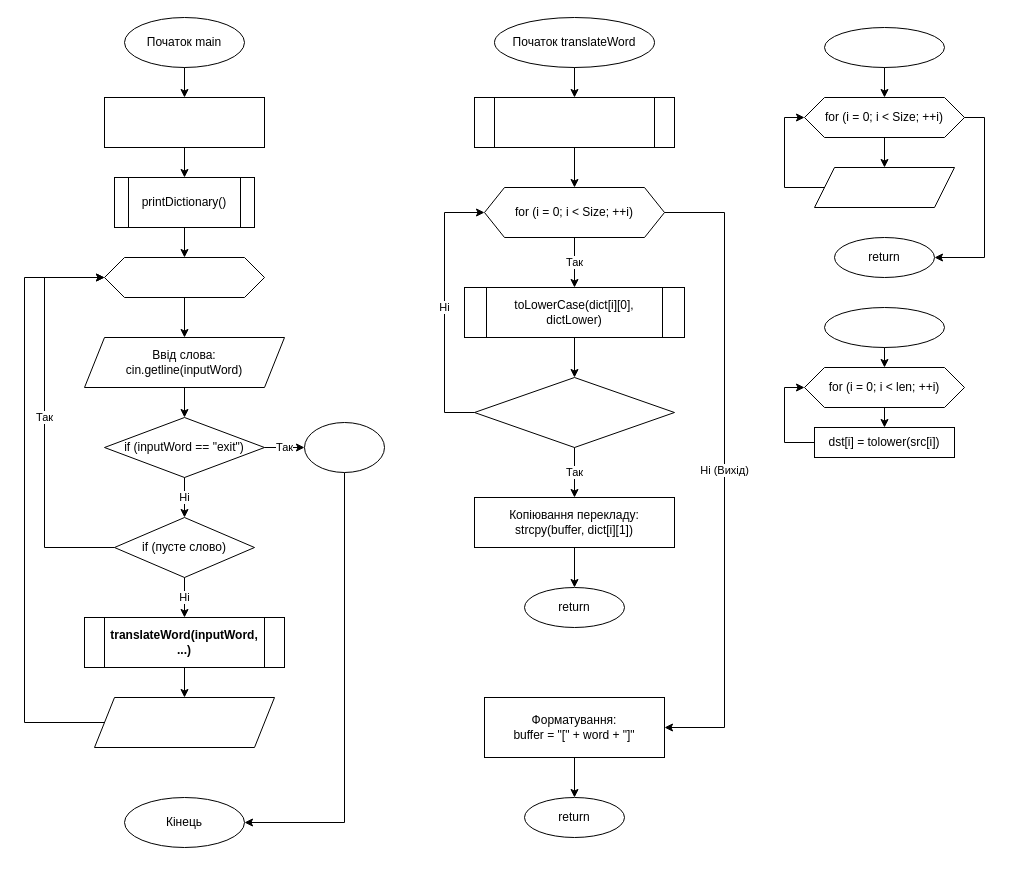
Some shapes in this 1010 by 873 pixel diagram are drawn without their labels. Each missing label, with the centre of its shape:
break: [344,447]
if (dictLower == lowerWord): [574,412]
printDictionary: [884,47]
toLowerCase: [884,327]
toLowerCase(input, lowerWord): [574,122]
while (true): [184,277]
Вивід пари слів: [884,187]
Вивід: translation: [184,722]
Налаштування консолі: SetConsoleCP(1251): [184,122]
